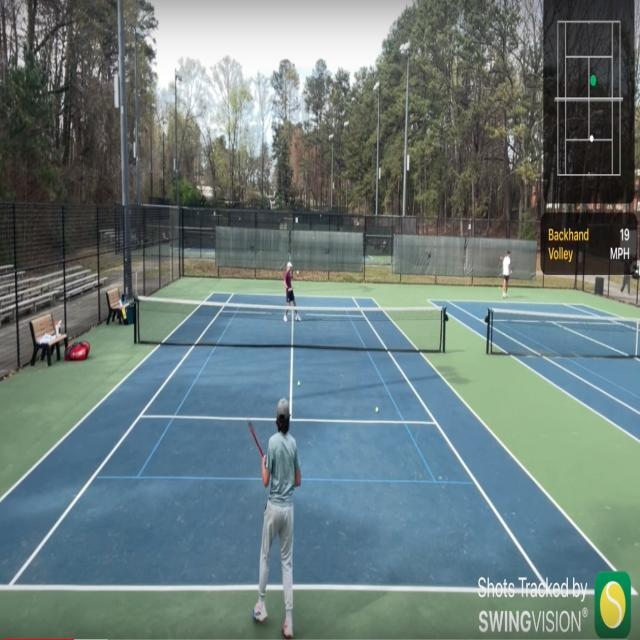ball: (376, 407, 378, 413), (298, 381, 300, 386)
